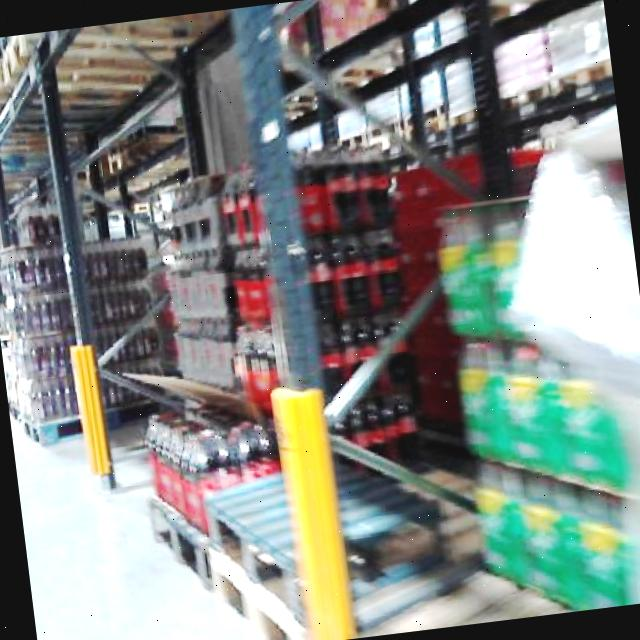pallet: (78, 0, 640, 640), (124, 334, 495, 640), (428, 177, 640, 621), (0, 226, 178, 448)
